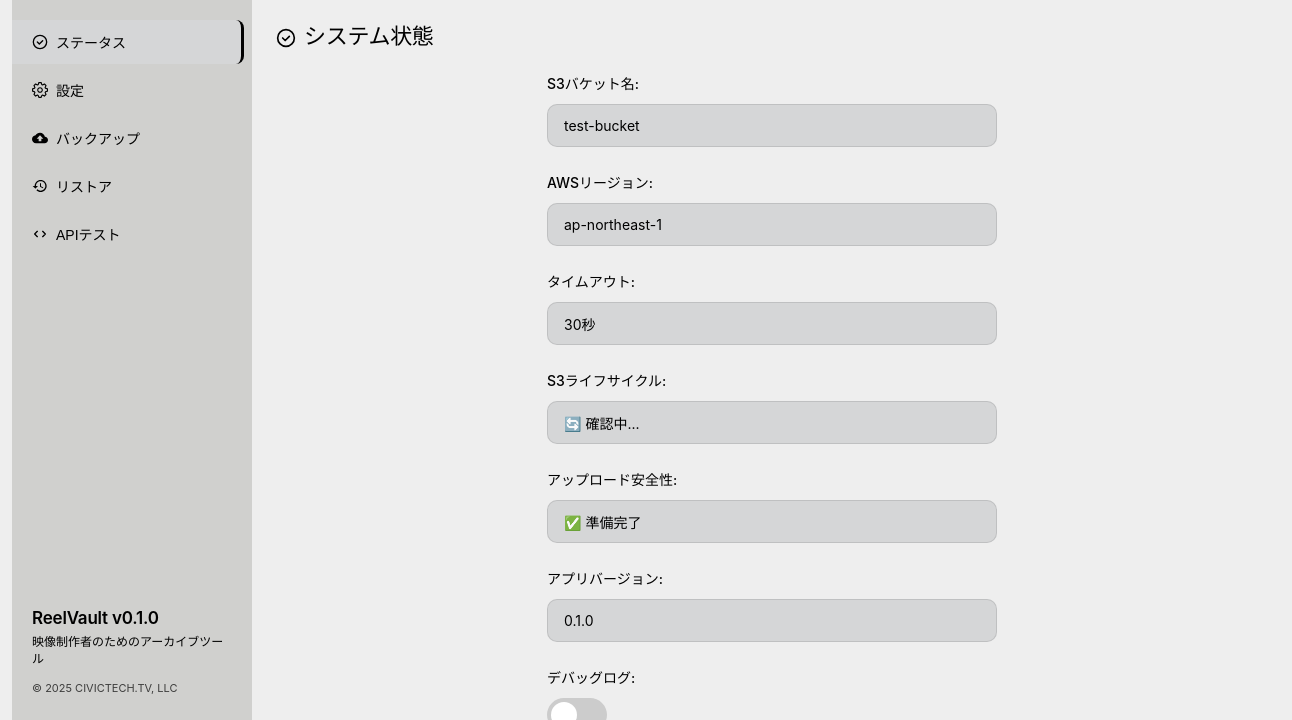
Test case: ConfigManager › should switch to upload tab when upload button is clicked
Click the button "バックアップ".
click(128, 138)  # box [12,116,244,160]
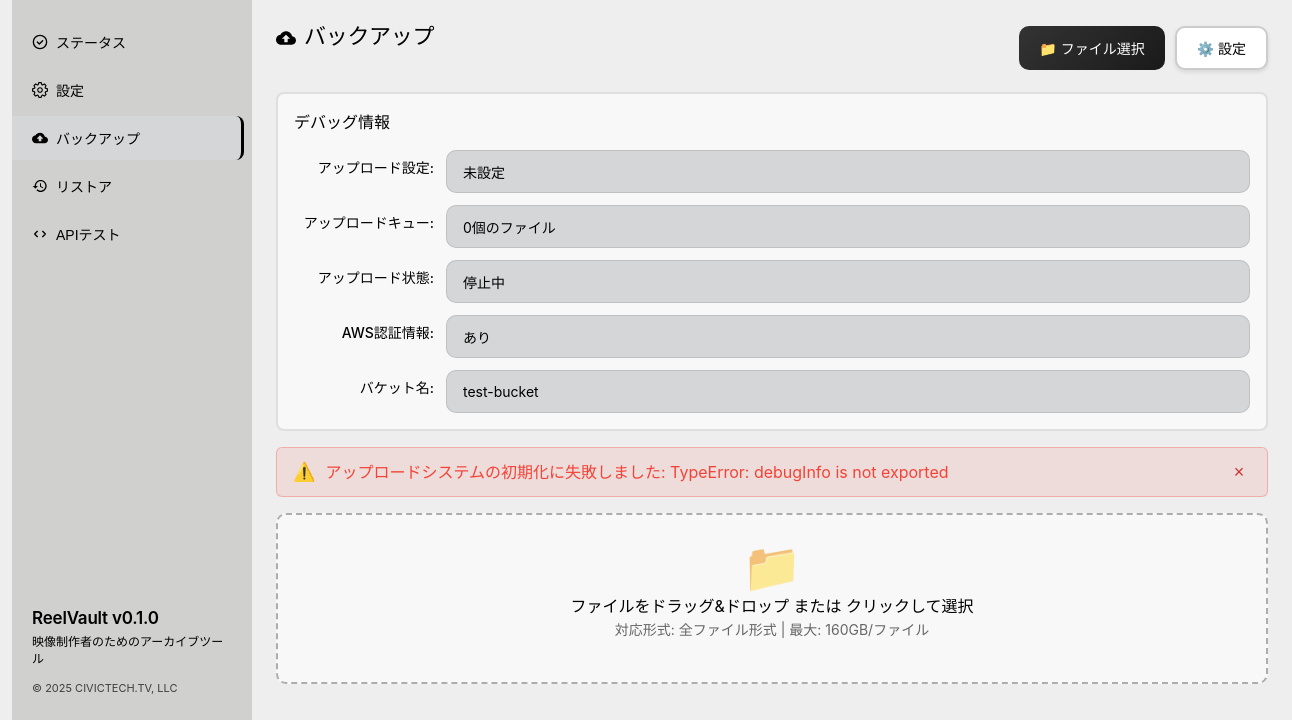
Expected: the button "📁 ファイル選択" is shown, [1019,26,1165,70]
